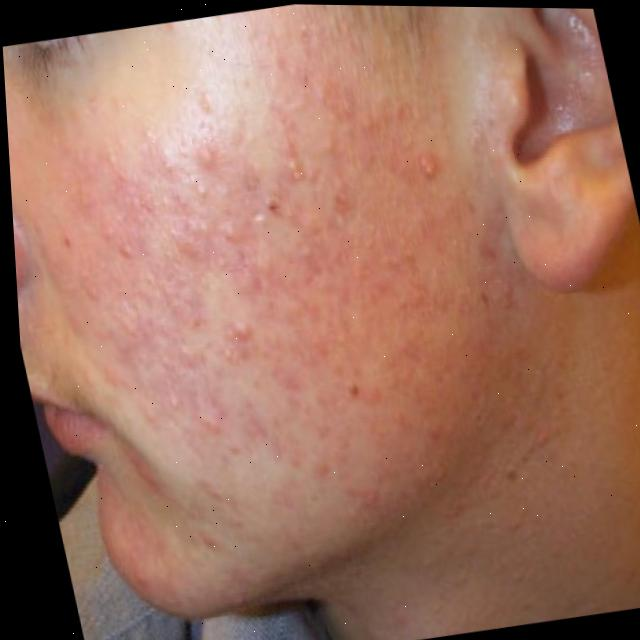Acne: (14, 74, 539, 544)
